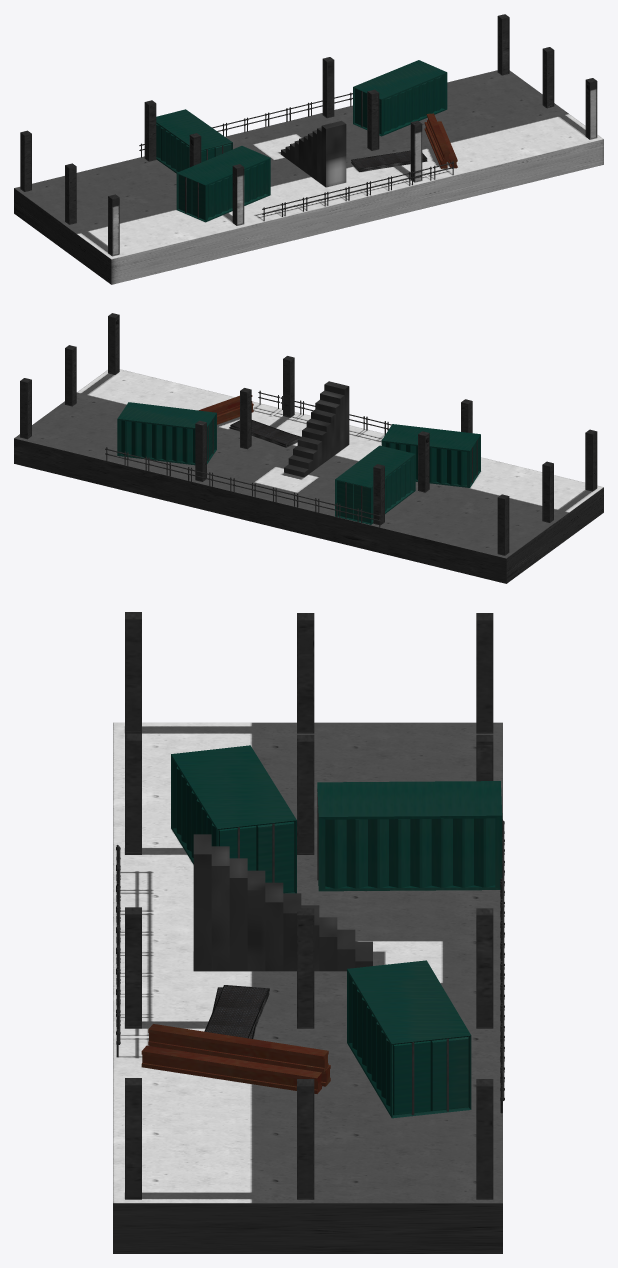
The model's file is bil1all.obj.
3 views of the same model, one above another, from view 1: azimuth 30°, elevation 25°; view 2: azimuth 150°, elevation 25°; view 3: azimuth 270°, elevation 25° (orthographic). The views are drawn at different scales.
Bounding box in the file's own units: 69.6 × 11.33 × 23.97.
